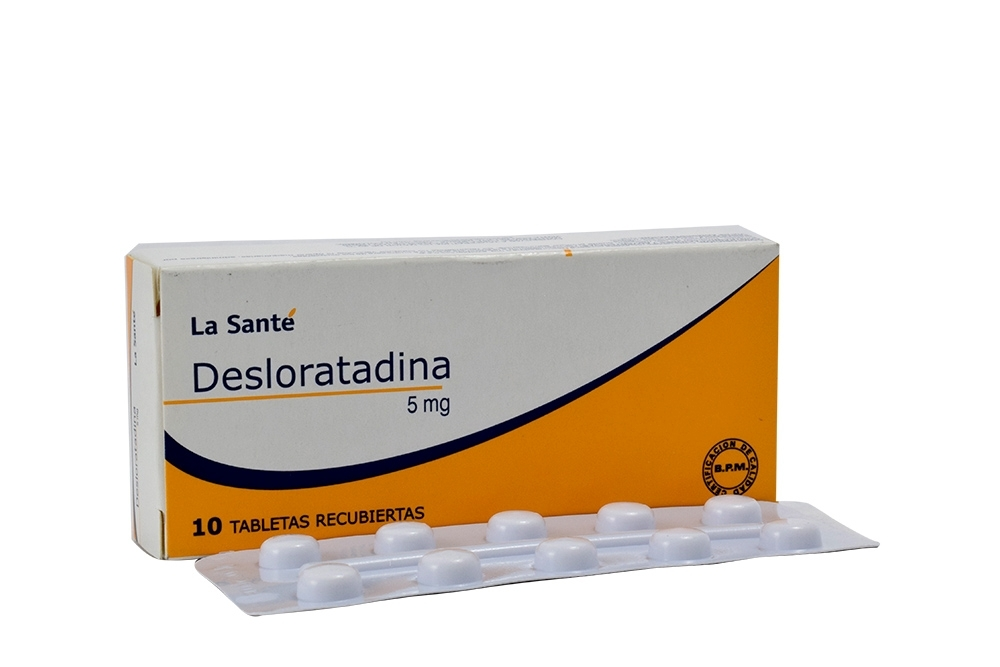LaSante: (166, 253, 778, 552)
